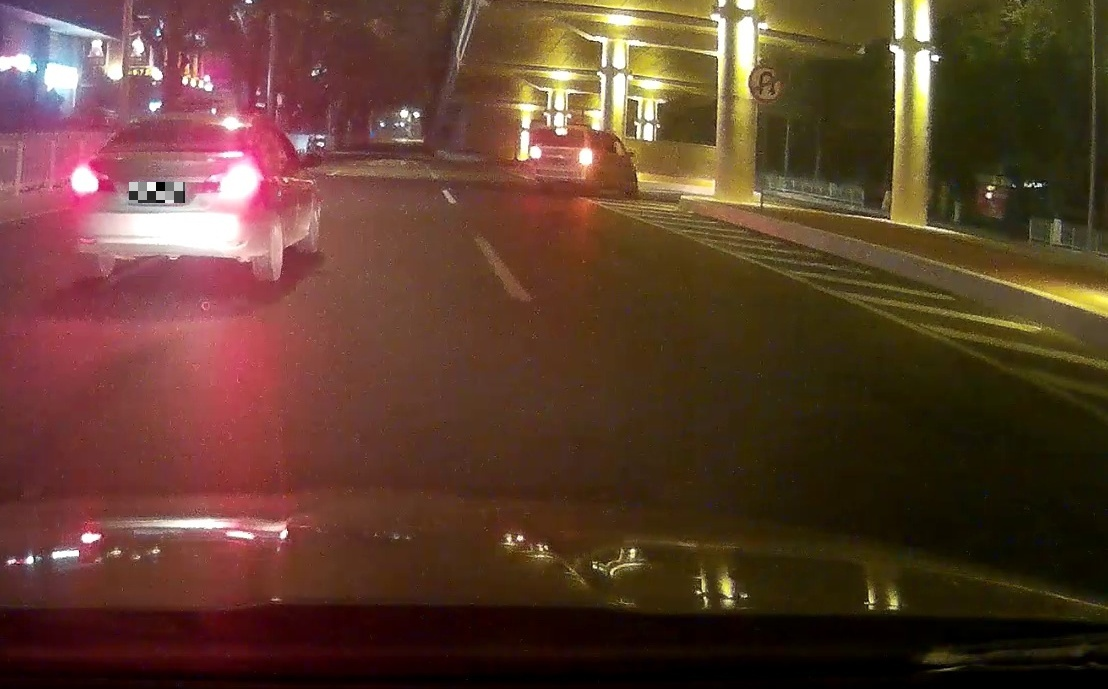L_light: (74, 164, 116, 193), (533, 147, 541, 157)
R_light: (198, 168, 258, 194), (580, 149, 592, 160)
T_light: (168, 122, 191, 127), (555, 129, 568, 134)
night-brake: (532, 125, 593, 192)
night-no: (73, 112, 267, 281)
plate_1: (129, 182, 185, 203)
